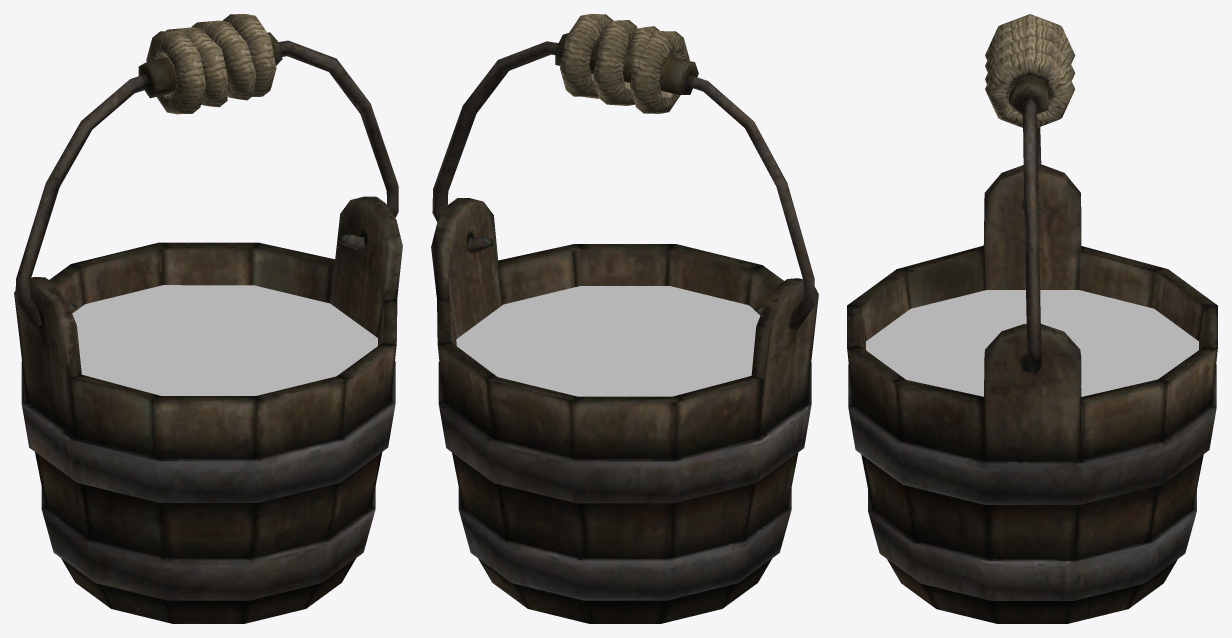
The model's file is wooden_bucket_filled_rope.dae.
The picture shows the model from 3 angles, left to right: view 1: azimuth 30°, elevation 25°; view 2: azimuth 150°, elevation 25°; view 3: azimuth 270°, elevation 25°; orthographic projection.
Visible parts, largest first — view 1: bucket, pCylinder1, handle, rope; view 2: bucket, pCylinder1, handle, rope; view 3: bucket, pCylinder1, rope, handle.
Part boxes in pixels (left/top/right/bottom): bucket: left=14, top=196, right=402, bottom=623; pCylinder1: left=72, top=285, right=377, bottom=395; handle: left=15, top=32, right=398, bottom=326; rope: left=146, top=14, right=276, bottom=114; bucket: left=431, top=198, right=818, bottom=623; pCylinder1: left=456, top=286, right=760, bottom=396; handle: left=432, top=33, right=814, bottom=330; rope: left=560, top=14, right=689, bottom=113; bucket: left=847, top=164, right=1217, bottom=623; pCylinder1: left=866, top=290, right=1198, bottom=396; rope: left=985, top=14, right=1075, bottom=127; handle: left=1009, top=76, right=1048, bottom=374.
Size of the model in its own units: 0.4793 by 0.4077 by 0.6523.
